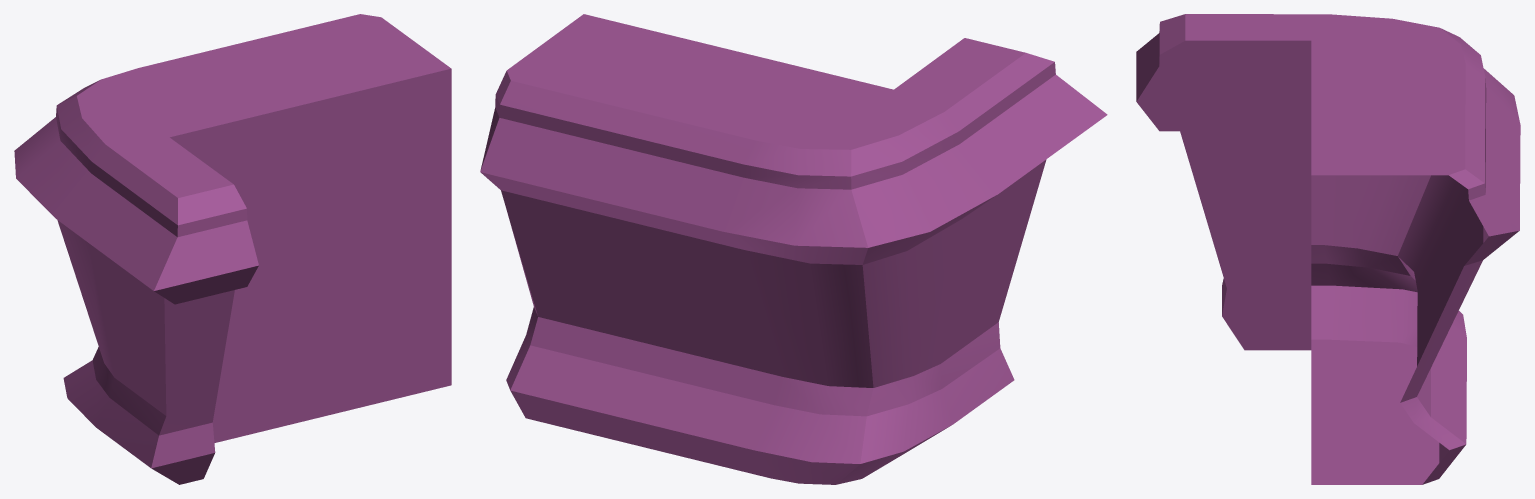
Rendered from obj_rewards_carbumpersidepart02.fbx.
The picture shows the model from 3 angles, left to right: view 1: azimuth 30°, elevation 25°; view 2: azimuth 150°, elevation 25°; view 3: azimuth 270°, elevation 25°; orthographic projection. The views are drawn at different scales.
Parts seen in each view (by area): view 1: cb_part1_lp.004; view 2: cb_part1_lp.004; view 3: cb_part1_lp.004.
Boxes of the visible parts, x1=… form: cb_part1_lp.004: x1=14, y1=14, x2=451, y2=484; cb_part1_lp.004: x1=480, y1=14, x2=1107, y2=484; cb_part1_lp.004: x1=1136, y1=14, x2=1520, y2=484.
Bounding box in the file's own units: 2.48 × 1.94 × 2.18.
